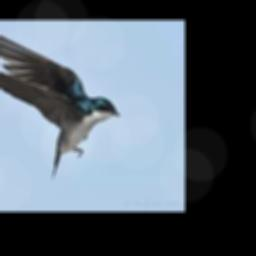Swallow: (0, 31, 119, 180)
